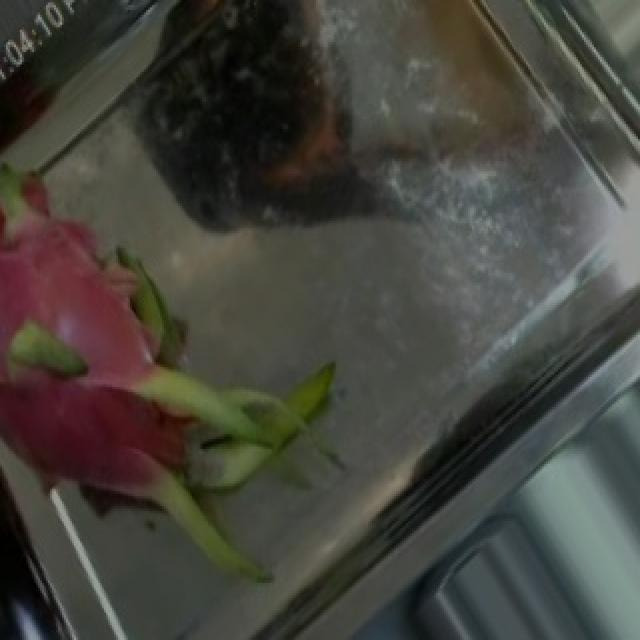fruit: (0, 136, 352, 608)
